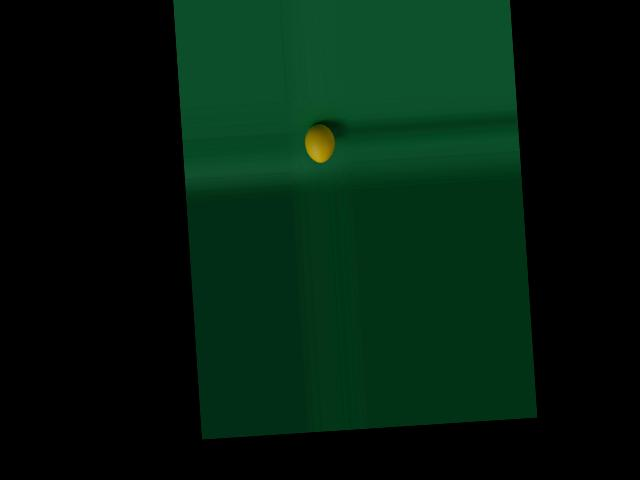egg: (303, 123, 335, 164)
